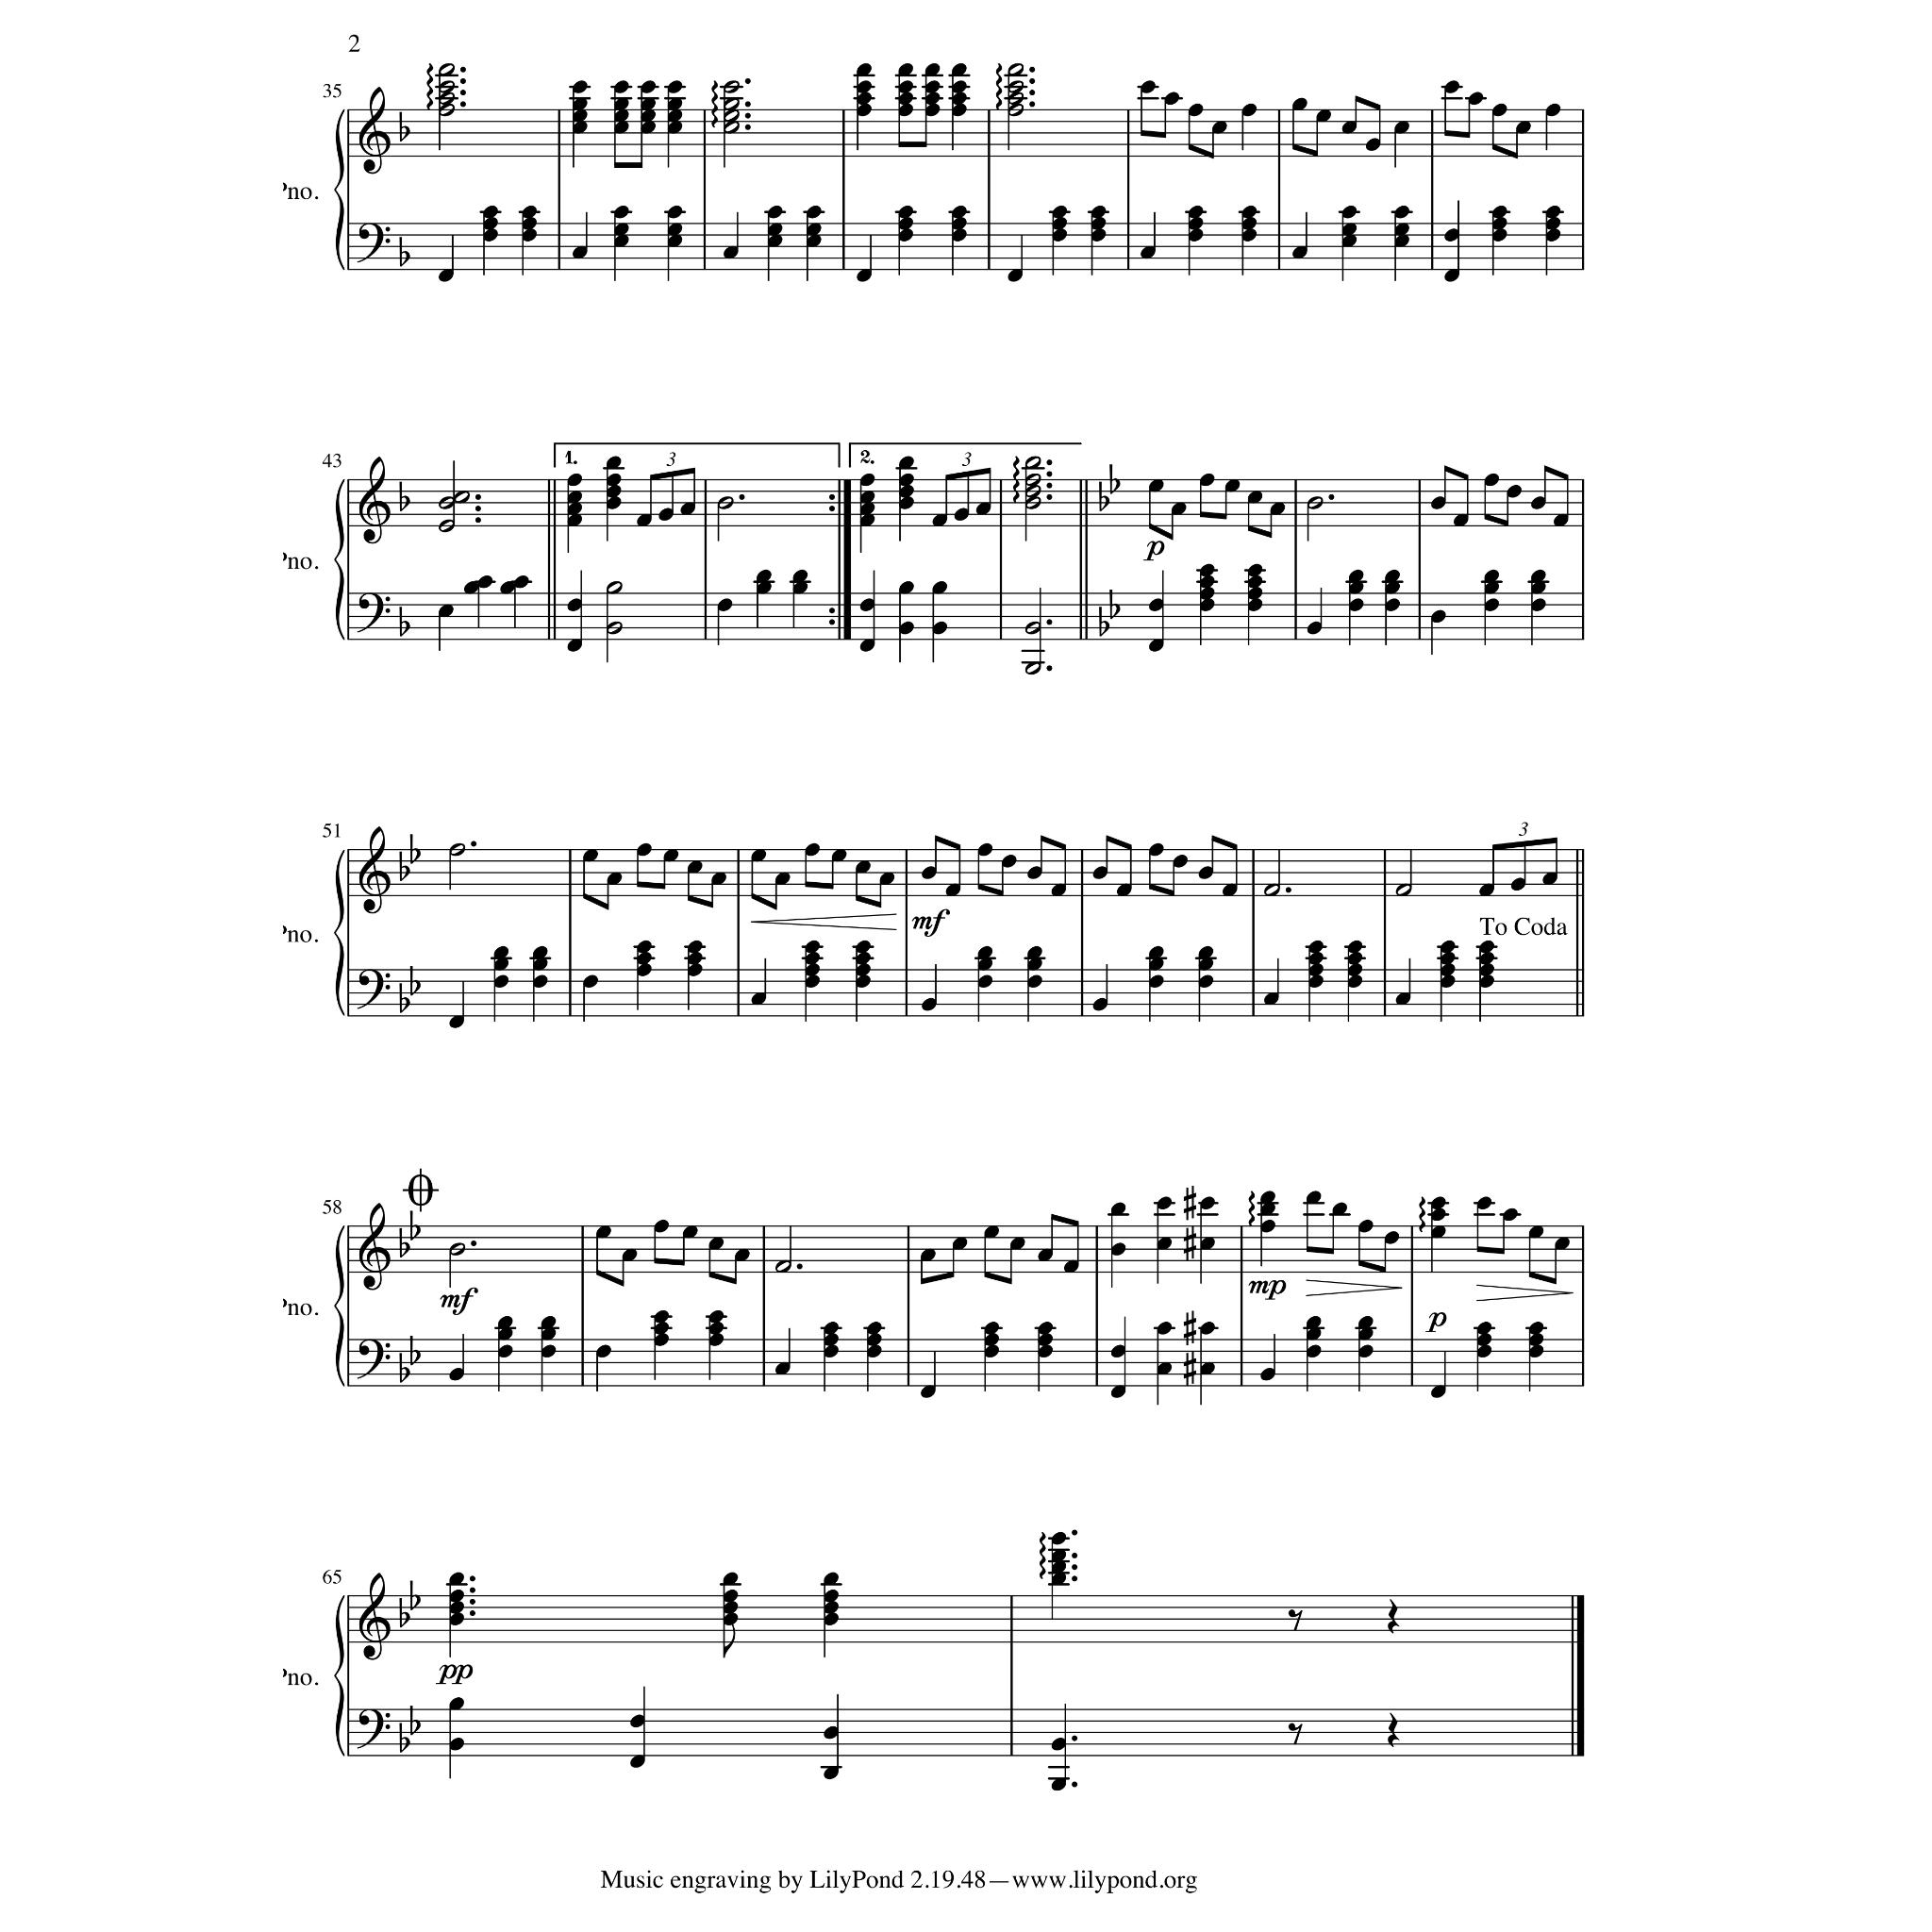brace: (333, 849, 345, 1017), (333, 110, 345, 272), (333, 478, 345, 640), (333, 1226, 345, 1387), (333, 1596, 345, 1757)
fClef: (357, 223, 391, 264), (357, 593, 391, 633), (357, 970, 391, 1010), (357, 1339, 391, 1380), (357, 1709, 391, 1750)
flag8thDown: (724, 1622, 736, 1658)
gClef: (359, 87, 391, 175), (359, 456, 391, 545), (359, 826, 391, 915), (359, 1201, 391, 1290), (359, 1573, 391, 1661)
noteheadBlack: (1483, 570, 1500, 584), (1483, 580, 1500, 594), (858, 490, 876, 504), (1000, 855, 1017, 869), (531, 957, 548, 971), (531, 975, 548, 989), (1155, 1196, 1173, 1210), (1187, 218, 1203, 232), (1187, 205, 1203, 219), (1187, 228, 1203, 242), (1164, 92, 1180, 106), (1292, 97, 1307, 111), (1292, 246, 1307, 260), (1240, 205, 1256, 219), (1240, 218, 1256, 232), (1240, 228, 1256, 242), (1212, 120, 1228, 134), (1051, 205, 1067, 219), (1051, 218, 1067, 232), (1051, 228, 1067, 242), (1139, 246, 1155, 260), (1090, 205, 1106, 219), (1090, 218, 1106, 232), (1090, 228, 1106, 242), (1491, 205, 1507, 219), (1491, 218, 1507, 232), (1516, 120, 1532, 134), (1491, 228, 1507, 242), (1467, 92, 1483, 106), (1545, 205, 1560, 219), (1545, 218, 1560, 232), (1545, 228, 1560, 242), (1341, 120, 1357, 134), (1364, 138, 1380, 152), (1341, 205, 1357, 219), (1444, 228, 1460, 242), (1394, 205, 1410, 219), (1394, 120, 1410, 134), (614, 120, 630, 134), (614, 97, 630, 111), (614, 205, 630, 219), (667, 205, 683, 219), (667, 97, 683, 111), (667, 120, 683, 134), (640, 97, 656, 111), (640, 120, 656, 134), (571, 246, 587, 260), (571, 97, 587, 111), (571, 120, 587, 134), (522, 205, 538, 219), (522, 218, 538, 232), (522, 228, 538, 242), (481, 205, 497, 219), (481, 218, 497, 232), (481, 228, 497, 242), (897, 92, 913, 106), (897, 228, 913, 242), (897, 218, 913, 232), (897, 205, 913, 219), (724, 246, 740, 260), (950, 228, 966, 242), (950, 218, 966, 232), (950, 205, 966, 219), (950, 92, 966, 106), (924, 92, 939, 106), (766, 205, 782, 219), (805, 205, 821, 219), (856, 92, 872, 106), (1247, 490, 1263, 504), (1247, 564, 1263, 579), (1198, 564, 1214, 579), (1198, 575, 1214, 589), (1306, 621, 1322, 635), (1247, 575, 1263, 589), (1506, 485, 1522, 499), (1530, 495, 1546, 510), (1530, 570, 1546, 584), (1530, 580, 1546, 594), (1348, 570, 1364, 584), (1348, 580, 1364, 594), (1431, 495, 1447, 510), (607, 456, 623, 471), (607, 485, 623, 499), (607, 495, 623, 510), (658, 508, 674, 522), (437, 605, 453, 619), (566, 490, 582, 504), (513, 575, 529, 589), (499, 580, 515, 594), (478, 575, 494, 589), (464, 580, 479, 594), (899, 456, 915, 471), (932, 580, 948, 594), (932, 621, 948, 635), (899, 580, 915, 594), (899, 621, 915, 635), (899, 485, 915, 499), (899, 495, 915, 510), (954, 508, 970, 522), (793, 570, 809, 584), (755, 570, 771, 584), (755, 580, 771, 594), (793, 580, 809, 594), (1173, 855, 1189, 869), (1198, 865, 1214, 879), (1198, 975, 1214, 989), (1198, 957, 1214, 971), (1148, 957, 1164, 971), (1148, 975, 1164, 989), (1092, 998, 1108, 1012), (1092, 865, 1108, 879), (1026, 957, 1042, 971), (1026, 975, 1042, 989), (1026, 865, 1042, 879), (1509, 878, 1525, 892), (1479, 962, 1495, 977), (1479, 975, 1495, 989), (1346, 962, 1362, 977), (1346, 975, 1362, 989), (1307, 962, 1323, 977), (1307, 975, 1323, 989), (1438, 962, 1454, 977), (1438, 975, 1454, 989), (637, 962, 653, 977), (686, 962, 702, 977), (686, 860, 702, 874), (582, 975, 598, 989), (977, 975, 993, 989), (494, 957, 510, 971), (494, 975, 510, 989), (920, 998, 936, 1012), (920, 865, 936, 879), (855, 962, 870, 977), (855, 860, 870, 874), (977, 957, 993, 971), (855, 975, 870, 989), (805, 962, 821, 977), (805, 975, 821, 989), (1260, 1368, 1276, 1382), (1260, 1191, 1276, 1205), (1260, 1203, 1276, 1217), (1260, 1219, 1276, 1233), (1306, 1191, 1322, 1205), (1306, 1345, 1322, 1359), (1306, 1327, 1322, 1341), (1306, 1316, 1322, 1330), (1109, 1203, 1125, 1217), (1109, 1345, 1125, 1359), (1109, 1242, 1125, 1256), (1063, 1260, 1079, 1274), (1200, 1196, 1215, 1210), (1529, 1345, 1545, 1359), (1529, 1332, 1545, 1346), (1384, 1231, 1399, 1246), (1430, 1196, 1445, 1210), (1359, 1316, 1375, 1330), (1359, 1327, 1375, 1341), (1359, 1345, 1375, 1359), (1359, 1219, 1375, 1233), (1332, 1203, 1348, 1217), (1476, 1332, 1491, 1346), (1476, 1345, 1491, 1359), (1476, 1196, 1491, 1210), (653, 1332, 669, 1346), (653, 1219, 669, 1233), (708, 1332, 724, 1346), (497, 1316, 513, 1330), (596, 1345, 612, 1359), (540, 1316, 556, 1330), (540, 1327, 556, 1341), (540, 1345, 556, 1359), (497, 1327, 513, 1341), (497, 1345, 513, 1359), (449, 1368, 465, 1382), (1037, 1332, 1053, 1346), (1037, 1345, 1053, 1359), (984, 1332, 1000, 1346), (984, 1345, 1000, 1359), (867, 1332, 883, 1346), (867, 1345, 883, 1359), (823, 1332, 839, 1346), (823, 1345, 839, 1359), (1051, 1737, 1067, 1752), (1051, 1548, 1067, 1562), (1051, 1778, 1067, 1792), (449, 1589, 465, 1603), (449, 1612, 465, 1626), (449, 1737, 465, 1752), (449, 1697, 465, 1711), (722, 1589, 738, 1603), (823, 1612, 839, 1626), (823, 1589, 839, 1603), (722, 1612, 738, 1626), (1169, 502, 1187, 515), (1483, 600, 1500, 612), (1483, 474, 1500, 487), (858, 474, 876, 487), (858, 639, 876, 651), (858, 502, 876, 515), (858, 515, 876, 527), (858, 600, 876, 612), (531, 947, 548, 959), (830, 849, 847, 862), (773, 872, 791, 885), (1155, 1322, 1173, 1334), (1155, 1362, 1173, 1375), (1155, 1237, 1173, 1249), (1553, 1237, 1571, 1249), (773, 1362, 791, 1375), (1385, 570, 1399, 584), (1385, 580, 1399, 594), (1187, 104, 1203, 117), (1007, 269, 1023, 281), (1240, 104, 1256, 117), (1139, 81, 1155, 94), (1545, 104, 1560, 117), (1491, 104, 1507, 117), (1341, 223, 1357, 235), (1341, 235, 1357, 248), (1316, 110, 1332, 122), (1444, 269, 1460, 281), (1444, 81, 1460, 94), (1394, 223, 1410, 235), (1394, 235, 1410, 248), (614, 223, 630, 235), (614, 110, 630, 122), (614, 81, 630, 94), (614, 235, 630, 248), (667, 235, 683, 248), (667, 223, 683, 235), (667, 81, 683, 94), (667, 110, 683, 122), (640, 81, 656, 94), (640, 110, 656, 122), (437, 269, 453, 281), (571, 81, 587, 94), (571, 110, 587, 122), (897, 64, 913, 76), (897, 104, 913, 117), (897, 81, 913, 94), (950, 64, 966, 76), (950, 81, 966, 94), (950, 104, 966, 117), (924, 64, 939, 76), (924, 81, 939, 94), (924, 104, 939, 117), (766, 223, 782, 235), (766, 235, 782, 248), (856, 269, 872, 281), (805, 223, 821, 235), (805, 235, 821, 248), (856, 64, 872, 76), (856, 81, 872, 94), (856, 104, 872, 117), (1224, 479, 1240, 492), (1247, 587, 1263, 600), (1247, 600, 1263, 612), (1198, 587, 1214, 600), (1198, 600, 1214, 612), (1198, 474, 1214, 487), (1269, 502, 1284, 515), (1148, 479, 1164, 492), (1148, 639, 1164, 651), (1148, 600, 1164, 612), (1453, 515, 1468, 527), (1552, 515, 1568, 527), (1530, 600, 1546, 612), (1348, 600, 1364, 612), (1431, 610, 1447, 623), (607, 474, 623, 487), (679, 502, 695, 515), (717, 600, 732, 612), (637, 515, 653, 527), (566, 600, 582, 612), (566, 639, 582, 651), (566, 474, 582, 487), (566, 502, 582, 515), (566, 515, 582, 527), (932, 515, 948, 527), (899, 474, 915, 487), (975, 502, 991, 515), (1148, 947, 1164, 959), (1148, 844, 1164, 856), (977, 947, 993, 959), (1263, 993, 1279, 1005), (1198, 947, 1214, 959), (1221, 885, 1237, 897), (1051, 885, 1067, 897), (1026, 947, 1042, 959), (1116, 885, 1132, 897), (1543, 872, 1559, 885), (1479, 941, 1495, 954), (1479, 952, 1495, 964), (1479, 885, 1495, 897), (1346, 941, 1362, 954), (1346, 952, 1362, 964), (1307, 941, 1323, 954), (1307, 952, 1323, 964), (1438, 941, 1454, 954), (1438, 952, 1454, 964), (1394, 993, 1410, 1005), (607, 872, 623, 885), (637, 941, 653, 954), (637, 952, 653, 964), (637, 844, 653, 856), (750, 993, 766, 1005), (750, 849, 766, 862), (711, 872, 727, 885), (686, 941, 702, 954), (686, 952, 702, 964), (663, 849, 679, 862), (449, 1016, 465, 1028), (582, 849, 598, 862), (494, 947, 510, 959), (879, 872, 895, 885), (855, 941, 870, 954), (855, 952, 870, 964), (977, 844, 993, 856), (945, 885, 961, 897), (805, 952, 821, 964), (805, 941, 821, 954), (805, 844, 821, 856), (1109, 1385, 1125, 1398), (1200, 1322, 1215, 1334), (1200, 1362, 1215, 1375), (1200, 1237, 1215, 1249), (1529, 1322, 1545, 1334), (1529, 1226, 1545, 1238), (1502, 1208, 1518, 1221), (1430, 1208, 1445, 1221), (1430, 1226, 1445, 1238), (1476, 1322, 1491, 1334), (1430, 1385, 1445, 1398), (653, 1322, 669, 1334), (621, 1249, 637, 1261), (653, 1311, 669, 1323), (708, 1311, 724, 1323), (708, 1322, 724, 1334), (708, 1237, 724, 1249), (681, 1226, 697, 1238), (596, 1226, 612, 1238), (952, 1237, 968, 1249), (920, 1385, 936, 1398), (920, 1249, 936, 1261), (1037, 1322, 1053, 1334), (1037, 1249, 1053, 1261), (1010, 1237, 1026, 1249), (984, 1322, 1000, 1334), (984, 1226, 1000, 1238), (867, 1322, 883, 1334), (734, 1249, 750, 1261), (823, 1322, 839, 1334), (1051, 1573, 1067, 1585), (1051, 1560, 1067, 1573), (1051, 1532, 1067, 1545), (449, 1601, 465, 1614), (449, 1573, 465, 1585), (823, 1601, 839, 1614), (722, 1601, 738, 1614), (722, 1573, 738, 1585), (823, 1573, 839, 1585), (823, 1767, 839, 1780), (823, 1727, 839, 1739), (630, 1755, 646, 1767), (630, 1714, 646, 1727), (1385, 600, 1399, 612)
noteheadHalf: (722, 97, 740, 111), (722, 120, 740, 134), (437, 92, 455, 106), (1007, 92, 1024, 106), (1306, 495, 1323, 510), (605, 580, 623, 594), (605, 621, 623, 635), (717, 495, 734, 510), (437, 495, 455, 510), (1024, 621, 1042, 635), (1024, 662, 1042, 676), (1024, 456, 1042, 471), (1024, 485, 1042, 499), (1024, 495, 1042, 510), (448, 1242, 465, 1256), (775, 1260, 791, 1274), (722, 81, 740, 94), (722, 110, 740, 122), (1007, 64, 1024, 76), (437, 104, 455, 117), (437, 81, 455, 94), (437, 64, 455, 76), (1007, 104, 1024, 117), (1007, 81, 1024, 94), (453, 492, 471, 504), (437, 520, 455, 533), (1024, 474, 1042, 487), (1263, 885, 1281, 897), (448, 844, 465, 856), (1396, 885, 1412, 897)
rest8th: (1288, 1610, 1302, 1631), (1288, 1723, 1302, 1744)
restQuarter: (1387, 1713, 1399, 1748), (1387, 1599, 1399, 1633)
